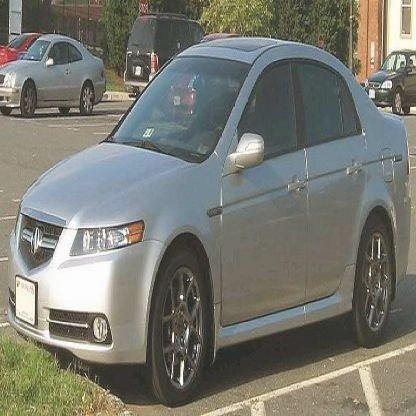Vehicle: (7, 34, 413, 411)
